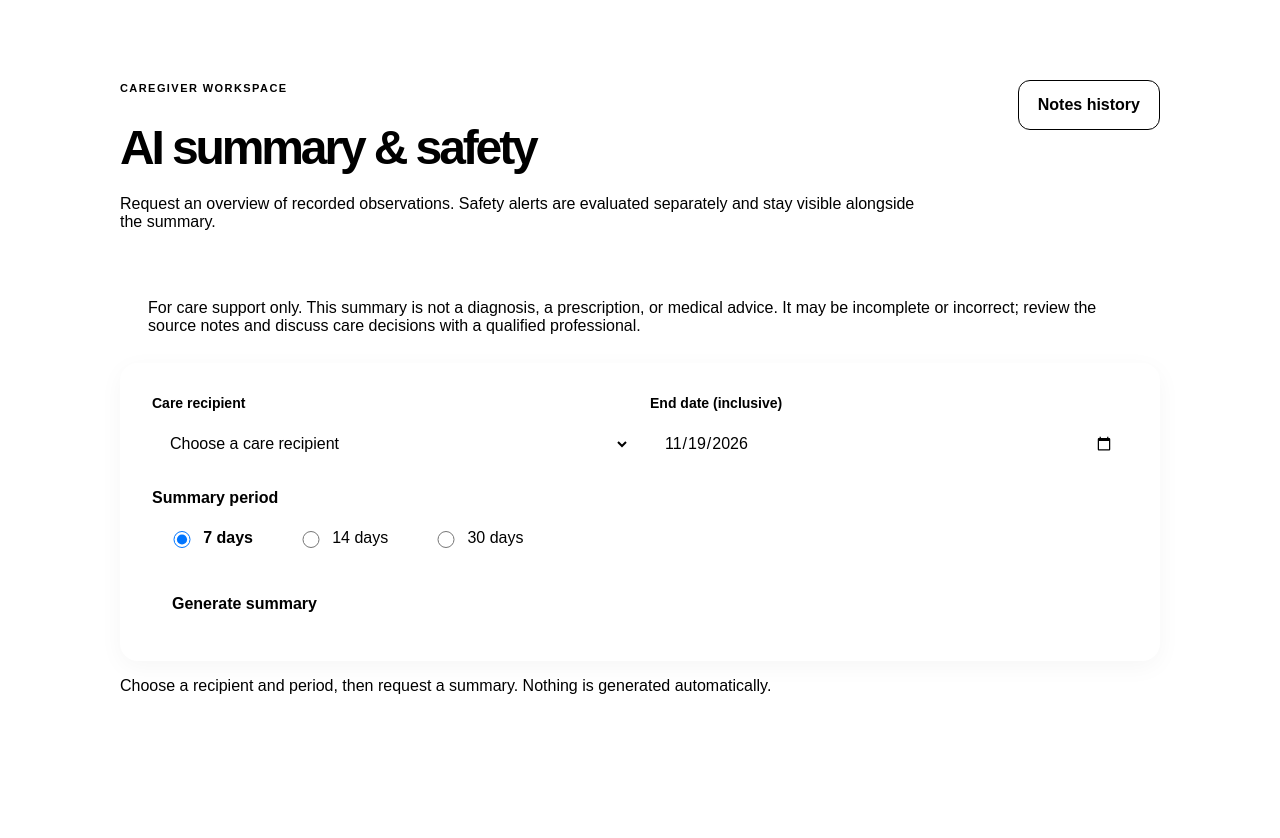
Test: summary unavailable reason display › appends the INVALID_KEY reason in English and keeps safety visible
(page scrolled)
Step 1. Select "Samir Hassan" in the dropdown labelled "Care recipient" → (391, 444), box [152,419,630,469]
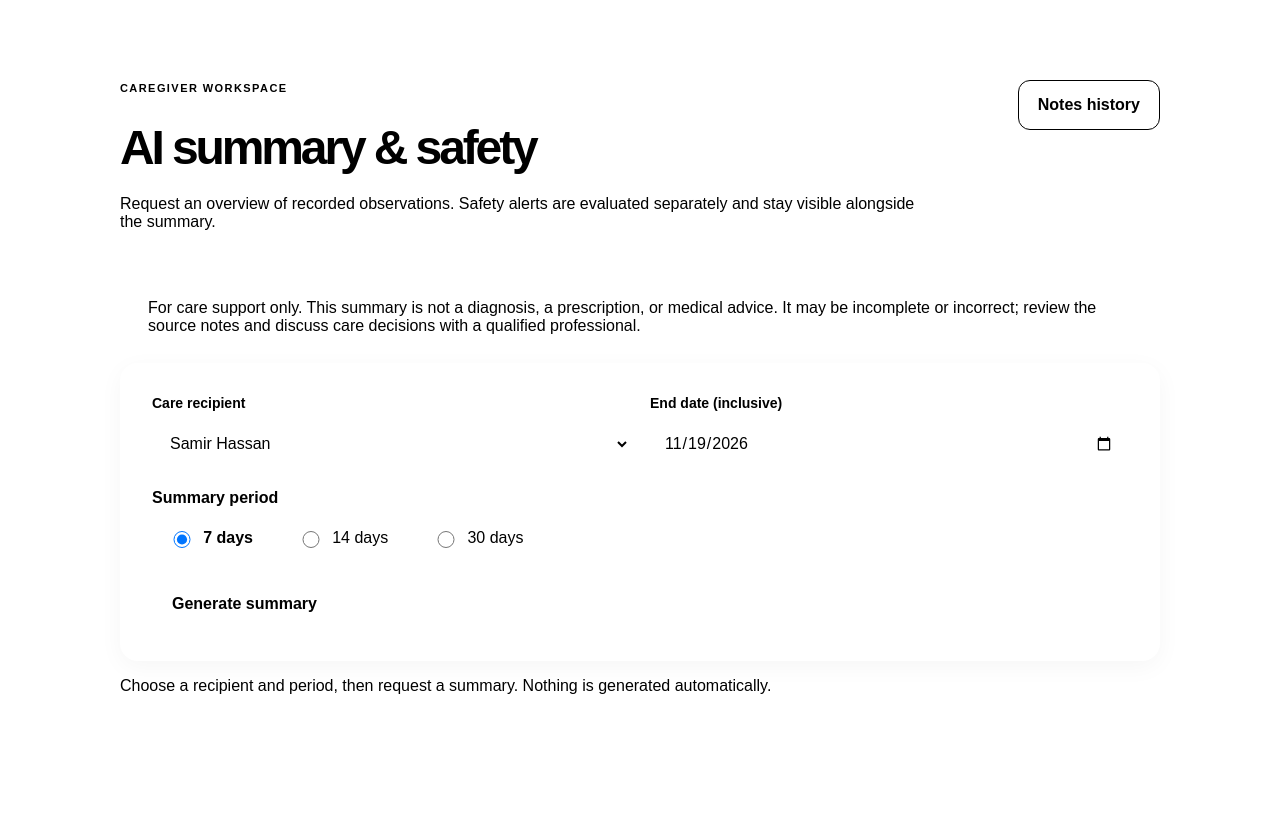
Step 2. Type "2026-10-24" into the date field labelled "End date (inclusive)" → (889, 444), box [650,419,1128,469]
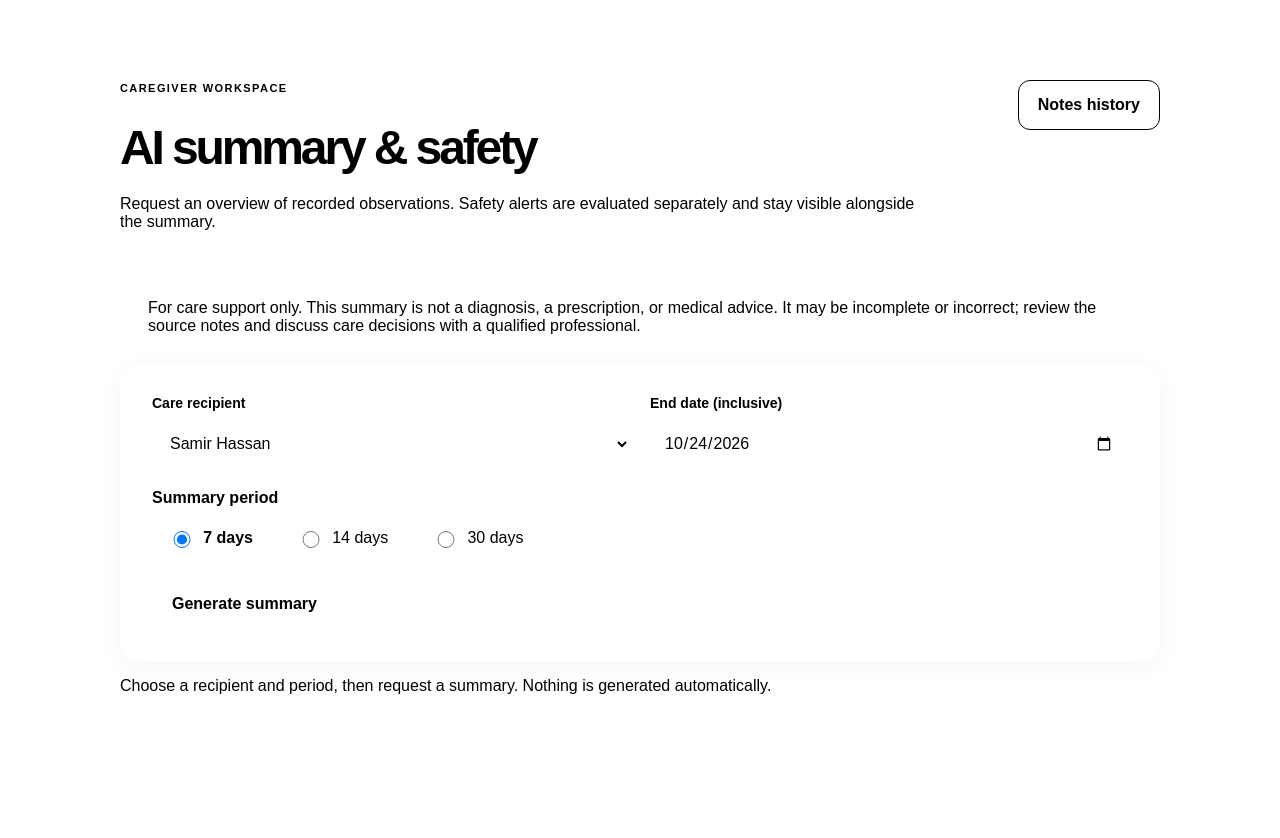
Step 3. Click the button "Generate summary" → (244, 604), box [152,579,337,629]
(page scrolled)
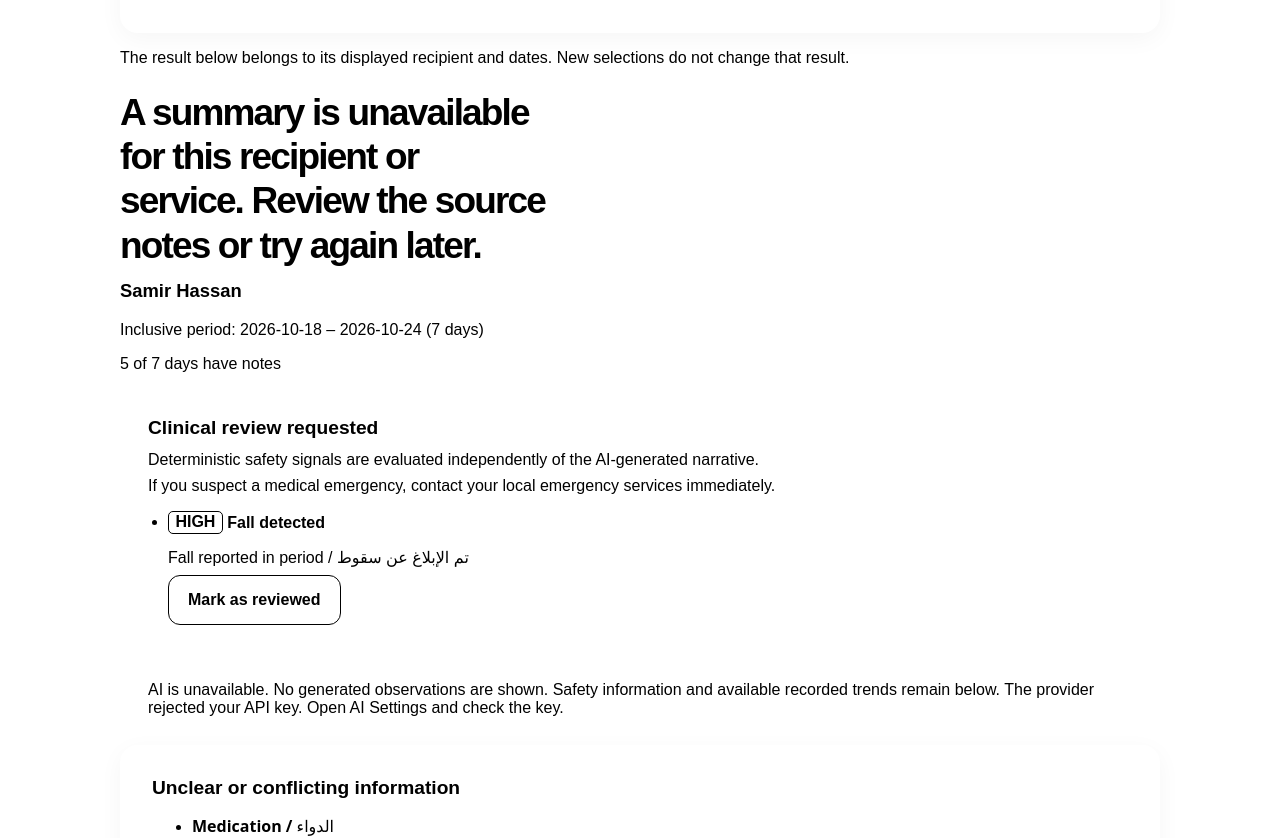
Check: the text "HIGH" is shown, box [175,513,215,530]
